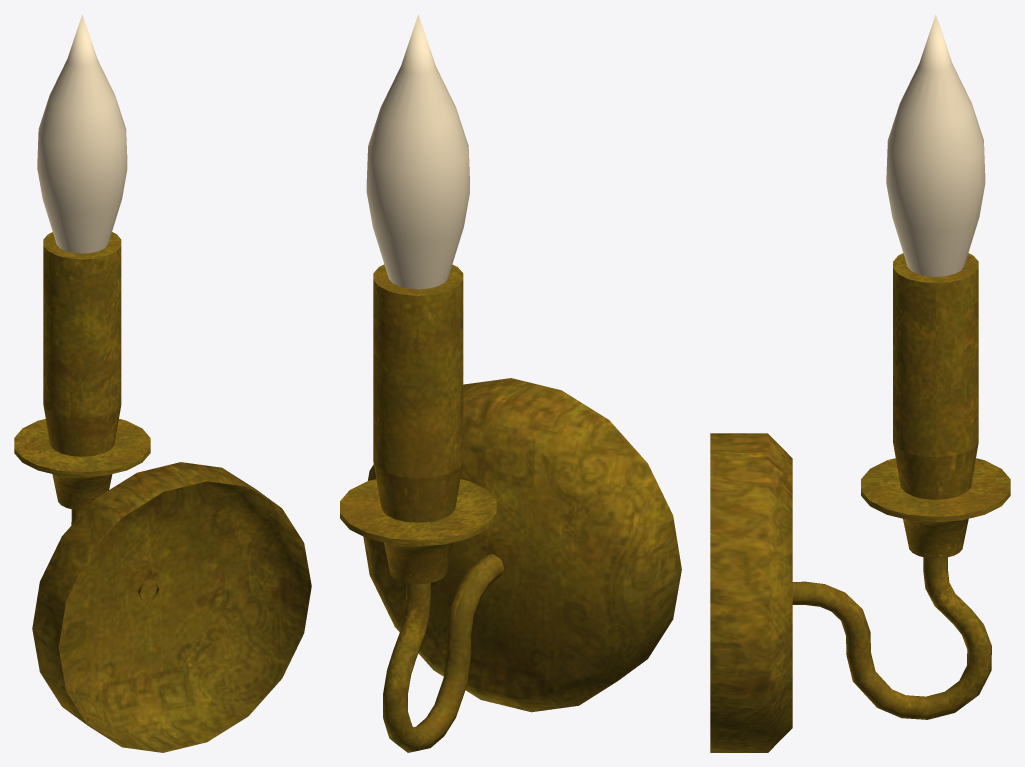
The model's file is candle_lamp.DAE.
3 renders of one model, left to right at view 1: azimuth 30°, elevation 25°; view 2: azimuth 150°, elevation 25°; view 3: azimuth 270°, elevation 25°, orthographic. The views are drawn at different scales.
Parts seen in each view (by area): view 1: Cylinder003, Cylinder006; view 2: Cylinder003, Cylinder006; view 3: Cylinder003, Cylinder006.
Part boxes in pixels (left/top/right/bottom): Cylinder003: left=14, top=232, right=311, bottom=752; Cylinder006: left=37, top=14, right=127, bottom=253; Cylinder003: left=340, top=264, right=681, bottom=752; Cylinder006: left=366, top=14, right=469, bottom=289; Cylinder003: left=710, top=253, right=1010, bottom=752; Cylinder006: left=886, top=14, right=985, bottom=276.
Bounding box in the file's own units: 0.2599 × 0.6459 × 0.2434.
